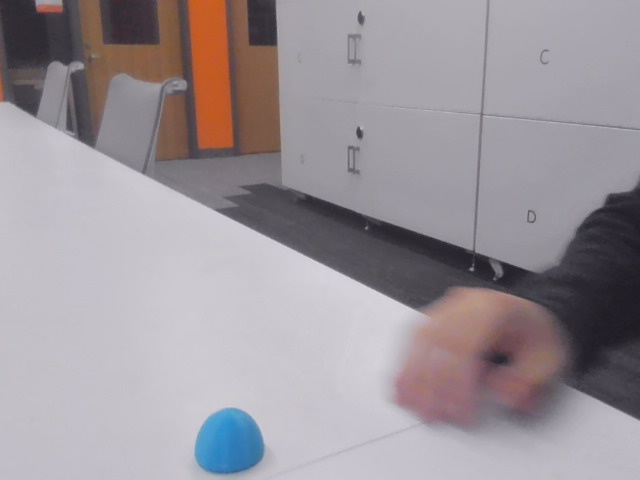halfsphere: (195, 408, 265, 472)
